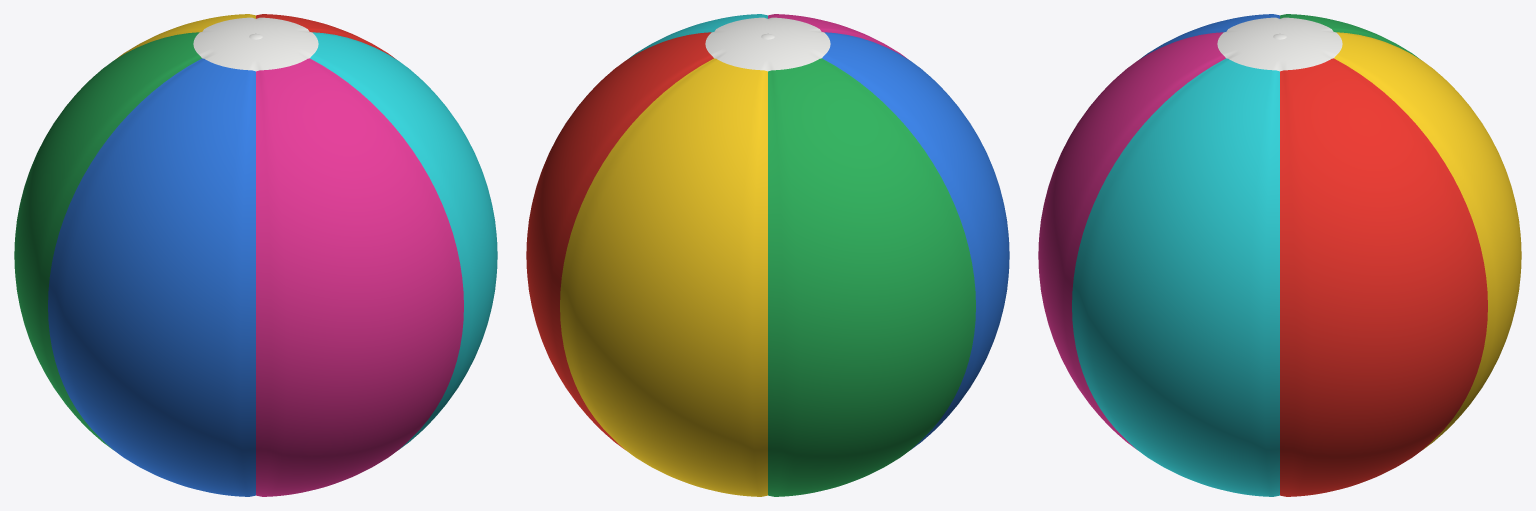
3 views of the same model, side by side, from view 1: azimuth 30°, elevation 25°; view 2: azimuth 150°, elevation 25°; view 3: azimuth 270°, elevation 25° (orthographic).
Parts seen in each view (by area): view 1: EXPORT_BALL_Shell; view 2: EXPORT_BALL_Shell; view 3: EXPORT_BALL_Shell.
Boxes of the visible parts, bbox=[...] form: EXPORT_BALL_Shell: bbox=[14, 14, 497, 496]; EXPORT_BALL_Shell: bbox=[526, 14, 1009, 496]; EXPORT_BALL_Shell: bbox=[1038, 14, 1521, 496].
Size of the model in its own units: 0.4989 by 0.5009 by 0.5.
